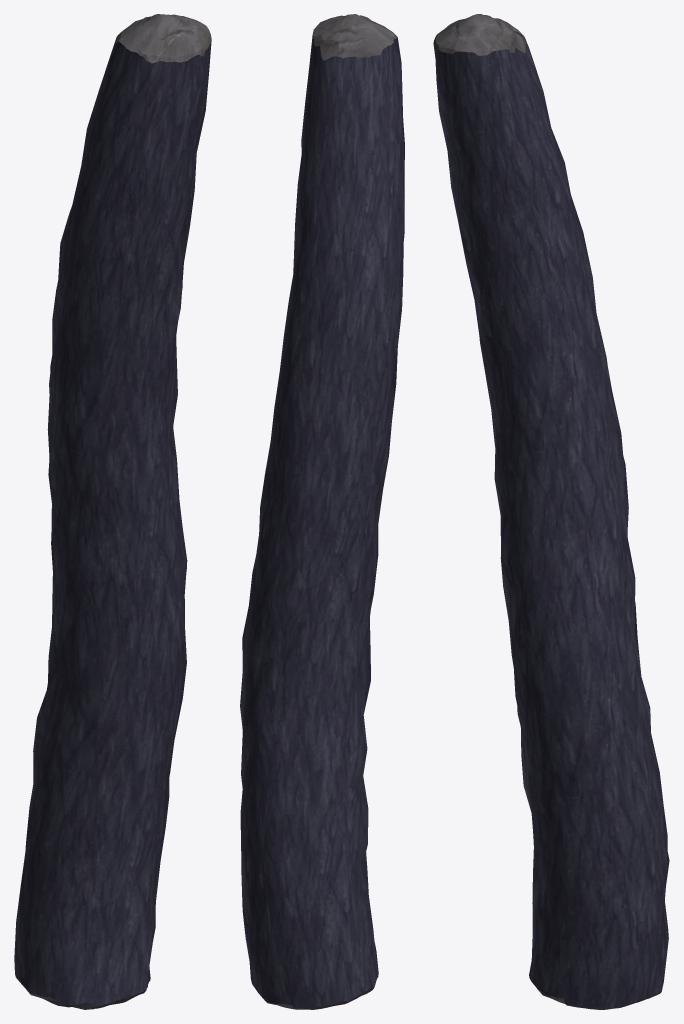
The picture shows the model from 3 angles, left to right: view 1: azimuth 30°, elevation 25°; view 2: azimuth 150°, elevation 25°; view 3: azimuth 270°, elevation 25°; orthographic projection. The views are drawn at different scales.
Visible parts, largest first — view 1: SM_Willow_02_half_bottom_LOD0; view 2: SM_Willow_02_half_bottom_LOD0; view 3: SM_Willow_02_half_bottom_LOD0.
Boxes of the visible parts, x1,y1,x2,y2 form: SM_Willow_02_half_bottom_LOD0: (14,14,211,1009); SM_Willow_02_half_bottom_LOD0: (240,14,404,1009); SM_Willow_02_half_bottom_LOD0: (433,14,669,1009).
Size of the model in its own units: 1.13 by 7.78 by 1.67.
